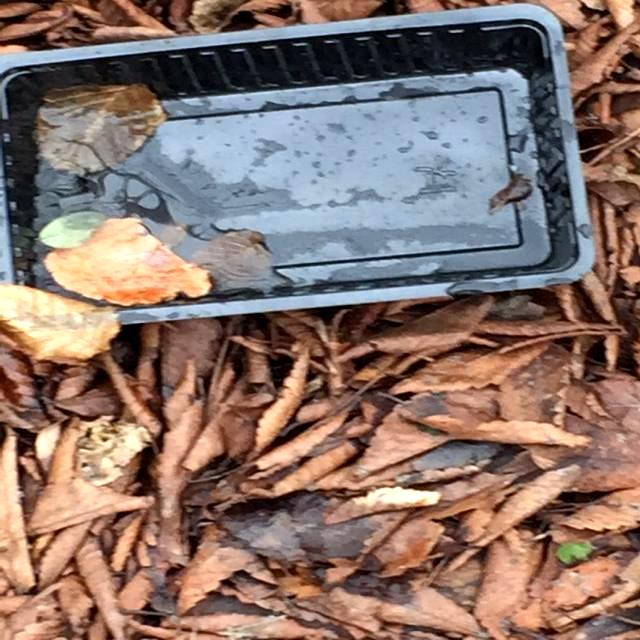Plastic: (0, 1, 596, 329)
